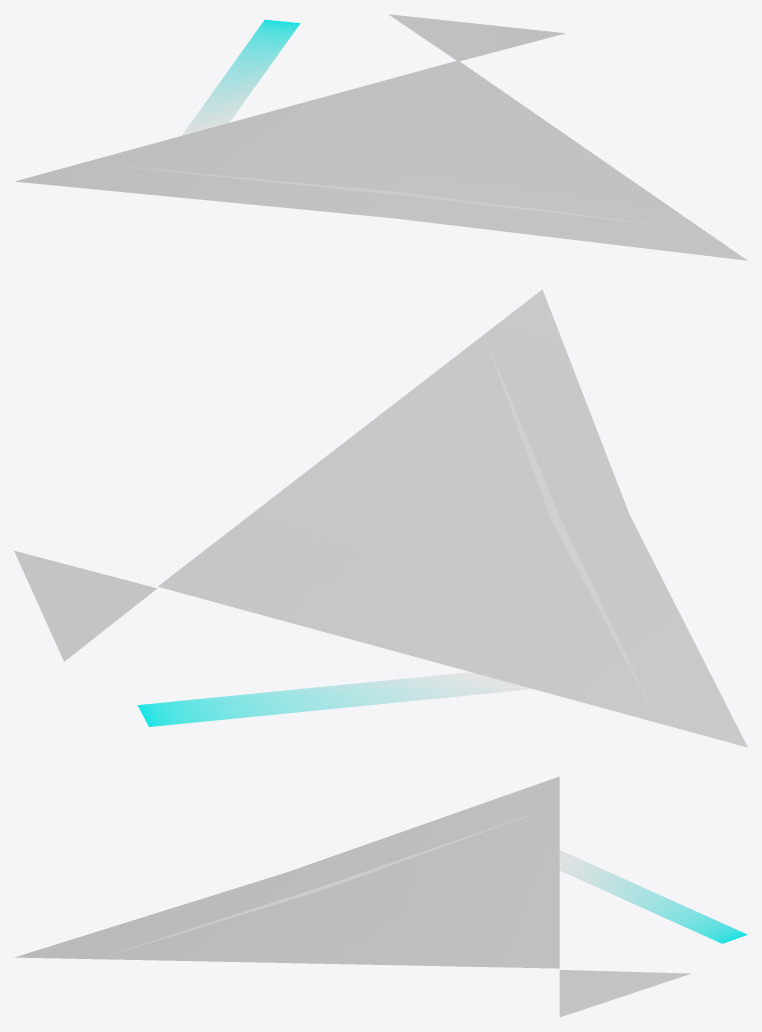
Rendered from cell_87_64.fbx.
3 views of the same model, one above another, from view 1: azimuth 30°, elevation 25°; view 2: azimuth 150°, elevation 25°; view 3: azimuth 270°, elevation 25° (orthographic). The views are drawn at different scales.
Visible parts, largest first — view 1: SpaceCenter_Long3_GenerateRoad_Asphalt_Mesh_x109_y80_17302_H, SpaceCenter_Long3_GenerateRoad_Asphalt_PCGMesh_Decal_Mesh_x., SpaceCenter_Long3_GenerateRoad_Asphalt_Mesh_x108_y81_17145_H; view 2: SpaceCenter_Long3_GenerateRoad_Asphalt_Mesh_x109_y80_17302_H, SpaceCenter_Long3_GenerateRoad_Asphalt_PCGMesh_Decal_Mesh_x., SpaceCenter_Long3_GenerateRoad_Asphalt_Mesh_x108_y81_17145_H; view 3: SpaceCenter_Long3_GenerateRoad_Asphalt_Mesh_x109_y80_17302_H, SpaceCenter_Long3_GenerateRoad_Asphalt_PCGMesh_Decal_Mesh_x., SpaceCenter_Long3_GenerateRoad_Asphalt_Mesh_x108_y81_17145_H.
Boxes of the visible parts, box(x1,y1,x2,y2) form: SpaceCenter_Long3_GenerateRoad_Asphalt_Mesh_x109_y80_17302_H: box(14, 60, 747, 260); SpaceCenter_Long3_GenerateRoad_Asphalt_PCGMesh_Decal_Mesh_x.: box(182, 19, 300, 135); SpaceCenter_Long3_GenerateRoad_Asphalt_Mesh_x108_y81_17145_H: box(388, 14, 565, 61); SpaceCenter_Long3_GenerateRoad_Asphalt_Mesh_x109_y80_17302_H: box(158, 289, 747, 747); SpaceCenter_Long3_GenerateRoad_Asphalt_PCGMesh_Decal_Mesh_x.: box(137, 673, 526, 726); SpaceCenter_Long3_GenerateRoad_Asphalt_Mesh_x108_y81_17145_H: box(14, 550, 156, 661); SpaceCenter_Long3_GenerateRoad_Asphalt_Mesh_x109_y80_17302_H: box(14, 776, 559, 968); SpaceCenter_Long3_GenerateRoad_Asphalt_PCGMesh_Decal_Mesh_x.: box(559, 850, 747, 943); SpaceCenter_Long3_GenerateRoad_Asphalt_Mesh_x108_y81_17145_H: box(559, 970, 690, 1017).
Bounding box in the file's own units: 16.98 × 0.7193 × 20.75.
